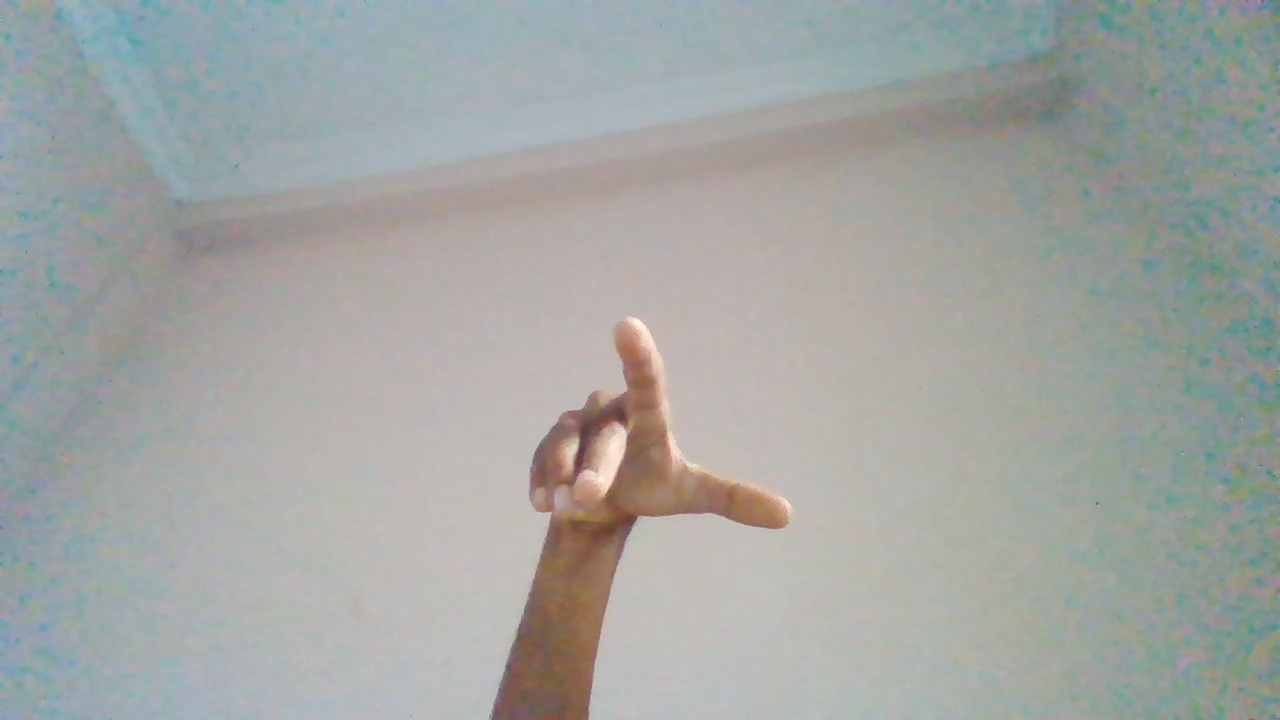ke: (523, 320, 792, 681)
